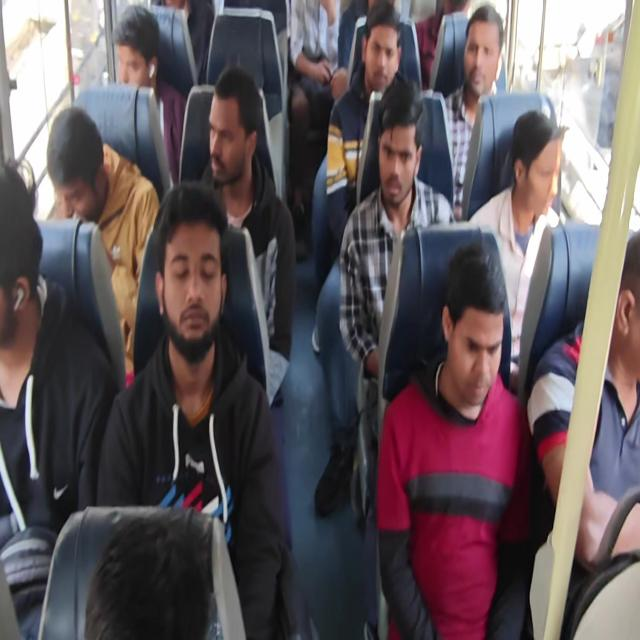person: (89, 529, 219, 640), (154, 206, 228, 341), (46, 112, 113, 222), (0, 166, 42, 333), (449, 289, 496, 405), (375, 106, 427, 205), (608, 216, 640, 374), (106, 9, 166, 90), (203, 99, 255, 186), (525, 99, 561, 216), (468, 0, 500, 94), (369, 30, 402, 89)
